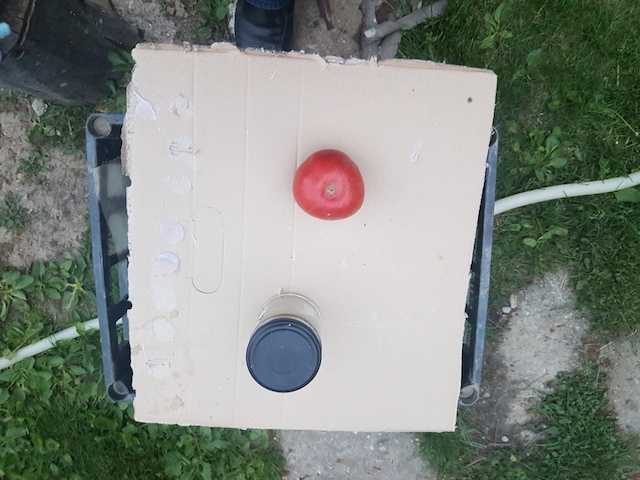apple: (288, 147, 367, 222)
recipient: (246, 322, 323, 391)
